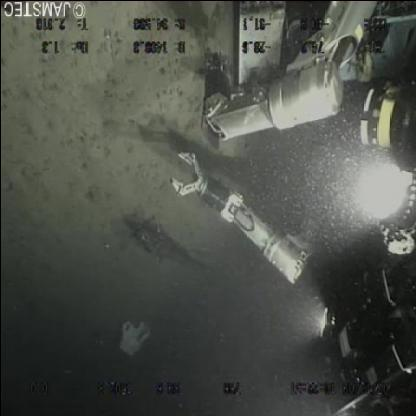Bio: (122, 215, 206, 273)
Rác: (116, 316, 154, 358)
